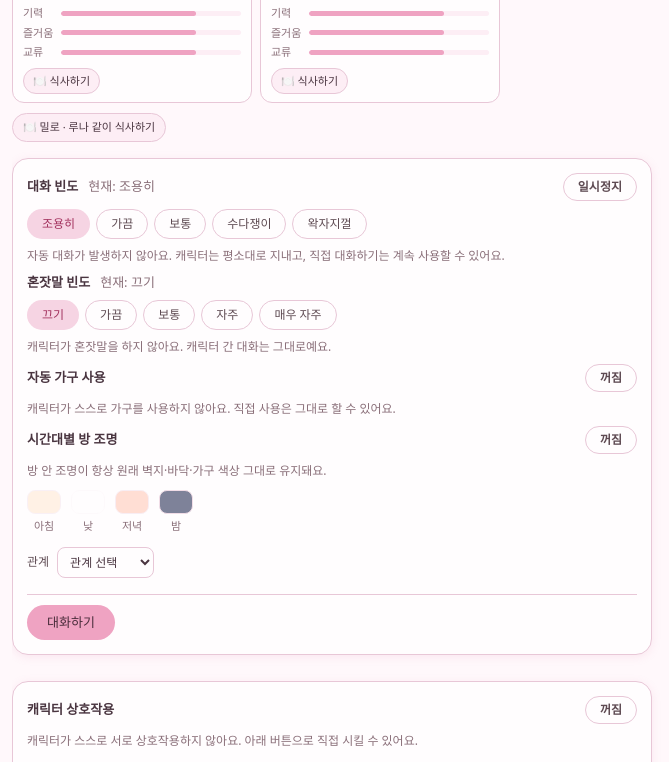
Test: 자동 가구 사용 (4차): 시작 조건, 종료, 쿨다운, 정리 › 설정: 기본값·저장·전역 on/off › Live 화면의 토글 버튼으로 켜고 끌 수 있다
The width and height of the screenshot is (669, 762).
(page scrolled)
aria-label distinguishes this from the room-lighting toggle, which shares the same visible "꺼짐"/"켜짐" text.
Click the button with aria-label "자동 가구 사용 꺼짐": (611,378) [585,364,637,392]
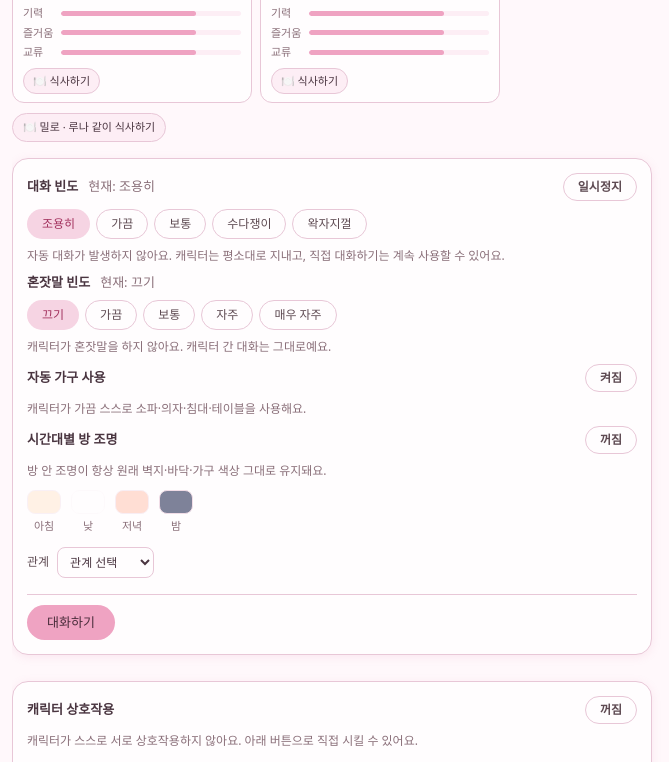
Check: the button with aria-label "자동 가구 사용 켜짐" is shown, box [585,364,637,392]
